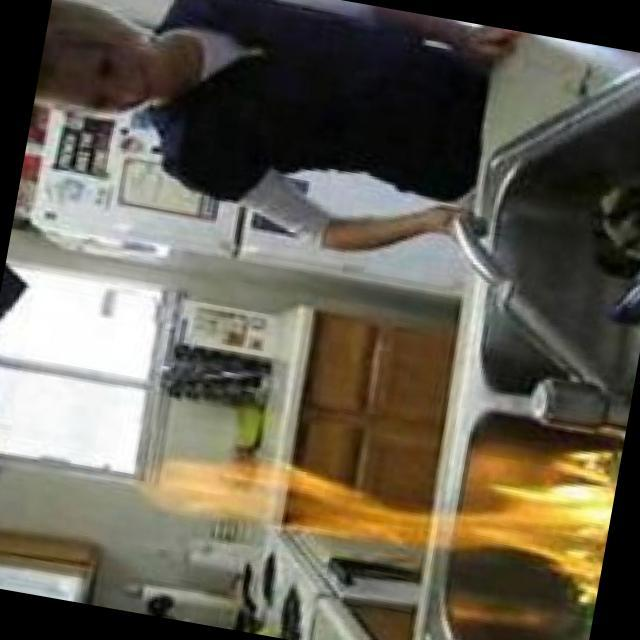Fire: (146, 377, 622, 598)
